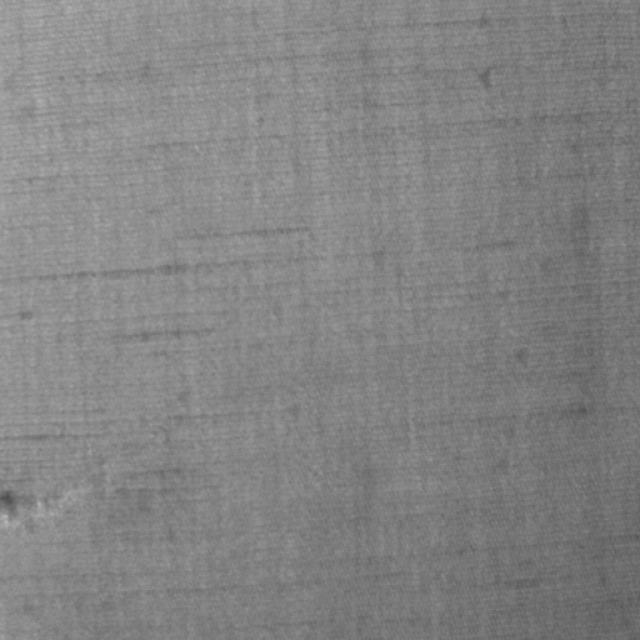thread error: (0, 447, 111, 545)
